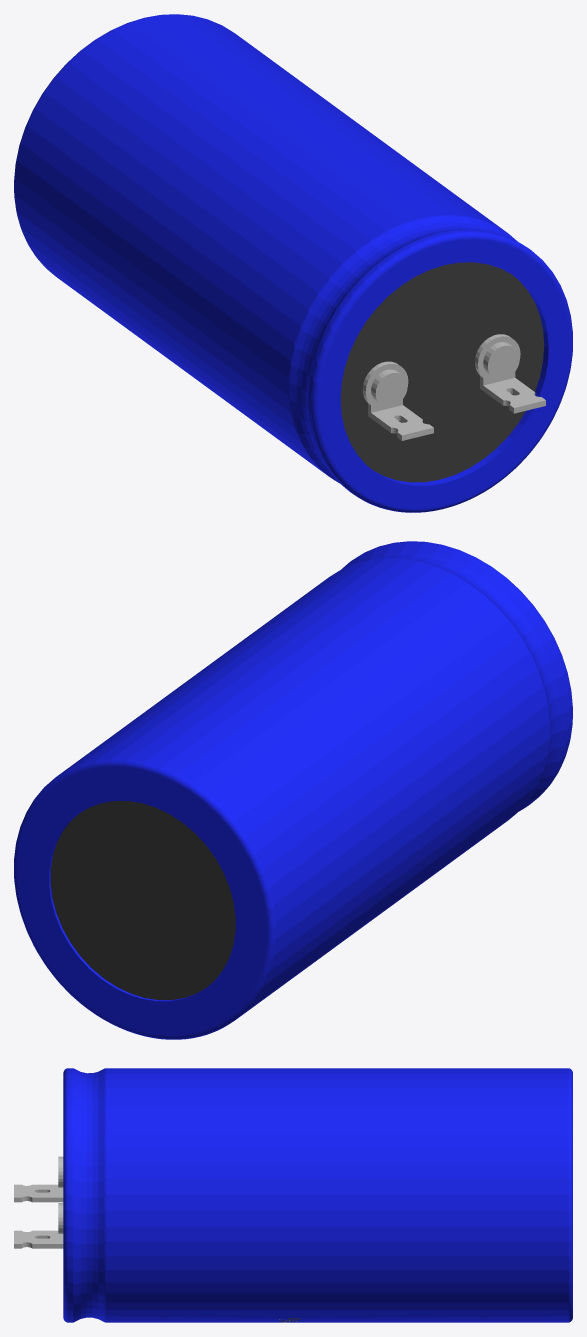
Rendered from Конденсатор CD60 1500 uF 450 V.obj.
3 views of the same model, one above another, from view 1: azimuth 30°, elevation 25°; view 2: azimuth 150°, elevation 25°; view 3: azimuth 270°, elevation 25° (orthographic). The views are drawn at different scales.
Parts seen in each view (by area): view 1: Конденсатор_CD60_1500_uF_450_V; view 2: Конденсатор_CD60_1500_uF_450_V; view 3: Конденсатор_CD60_1500_uF_450_V.
Boxes of the visible parts, <box> form: Конденсатор_CD60_1500_uF_450_V: <box>14,14,572,512</box>; Конденсатор_CD60_1500_uF_450_V: <box>14,541,572,1039</box>; Конденсатор_CD60_1500_uF_450_V: <box>14,1068,572,1322</box>.
Size of the model in its own units: 0.00704 by 0.00705 by 0.0155.
